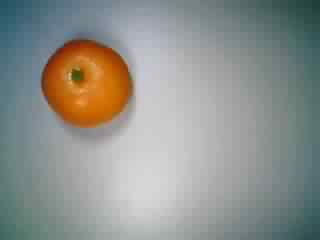orange: (38, 32, 133, 134)
